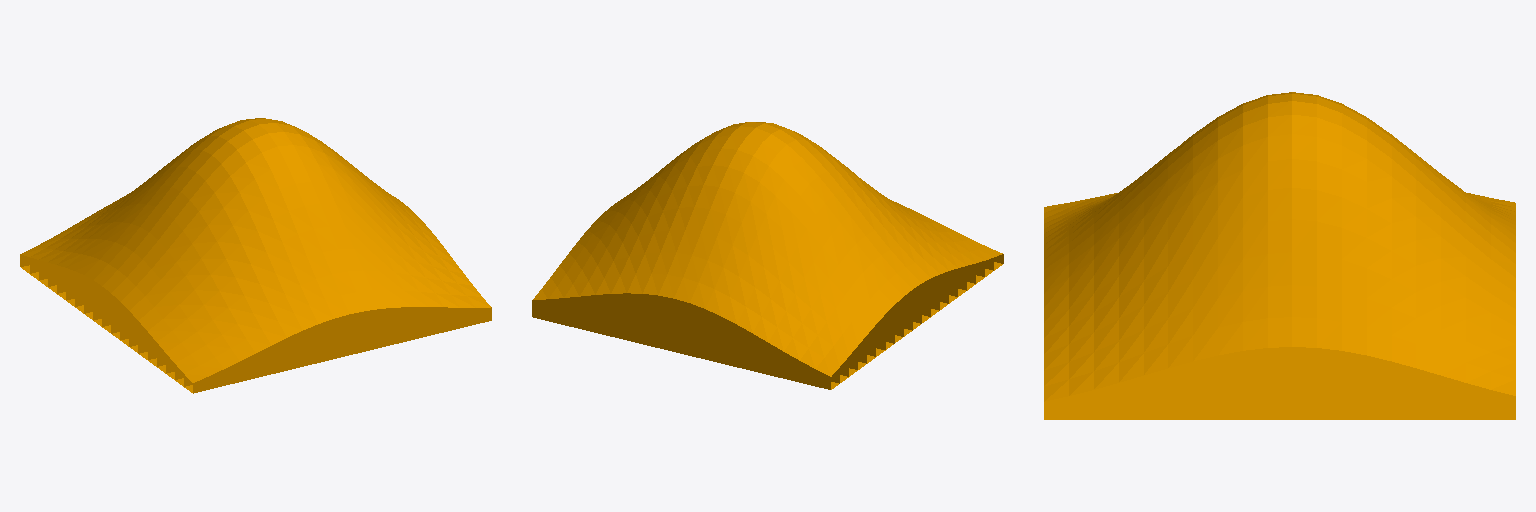
The robot description file, URDF, robot "gaussian_pyramid":
<?xml version="1.0"?>
<robot name="gaussian_pyramid">
  <link name="baseLink">
    <inertial>
      <origin xyz="0 0 0" rpy="0 0 0"/>
      <mass value="1"/>
      <inertia ixx="1" ixy="0" ixz="0" iyy="1" iyz="0" izz="1"/>
    </inertial>
    <visual>
      <origin xyz="0 0 0" rpy="0 0 0"/>
      <geometry>
        <mesh filename="gaussian_pyramid.obj" scale="1 1 1"/>
      </geometry>
    </visual>
    <collision>
      <origin xyz="0 0 0" rpy="0 0 0"/>
      <geometry>
        <mesh filename="gaussian_pyramid.obj" scale="1 1 1"/>
      </geometry>
    </collision>
  </link>
</robot>

--- Facts derived from the render (not from the file) ---
3 views of the same robot in one strip: view 1: azimuth 30°, elevation 25°; view 2: azimuth 150°, elevation 25°; view 3: azimuth 270°, elevation 25° (orthographic).
Model gaussian_pyramid with 1 links and 0 joints (none), rooted at baseLink, posed all joints at 0.
Visible links, largest first — view 1: baseLink; view 2: baseLink; view 3: baseLink.
Boxes of the visible links, x1,y1,x2,y2 form: baseLink: (20, 118, 491, 393); baseLink: (532, 122, 1003, 389); baseLink: (1044, 92, 1515, 419).
Size in the robot's own frame: 9.5 by 9.5 by 5 metres.
1 mesh visuals loaded from 1 distinct referenced files (1 OBJ).
